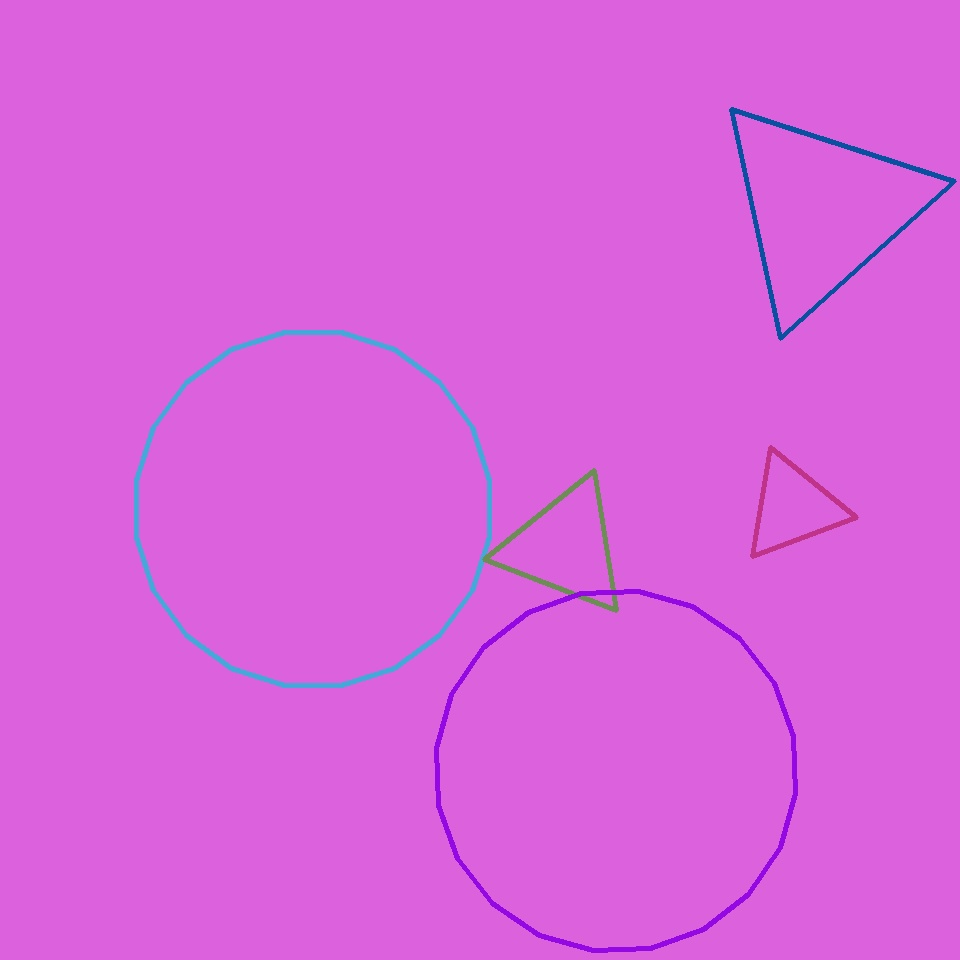circle: (710, 96, 934, 324), (499, 477, 631, 617), (741, 452, 845, 562)
triangle: (436, 592, 796, 950), (136, 332, 490, 685)
